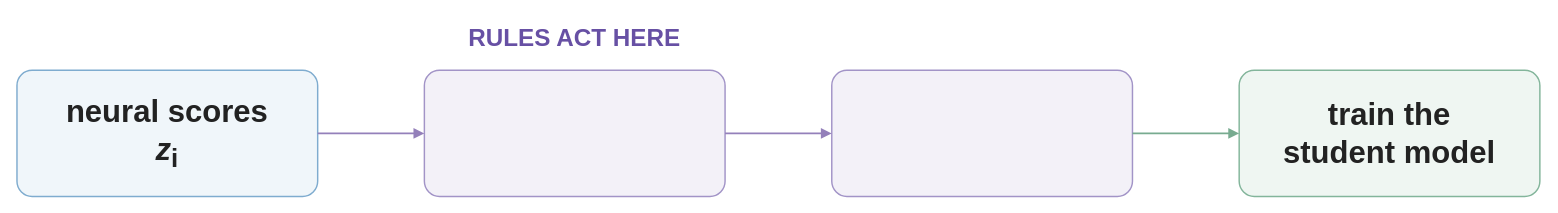
The diagram is 1558 pixels wide and 213 high, and some of its shapes have lost their labels. The centre of each missing label's shape, as x and y in pixels:
"rules adjust the scores" goes at point 574,133.
"teacher signal z ′ i = z i + αΔ i" goes at point 982,133.
